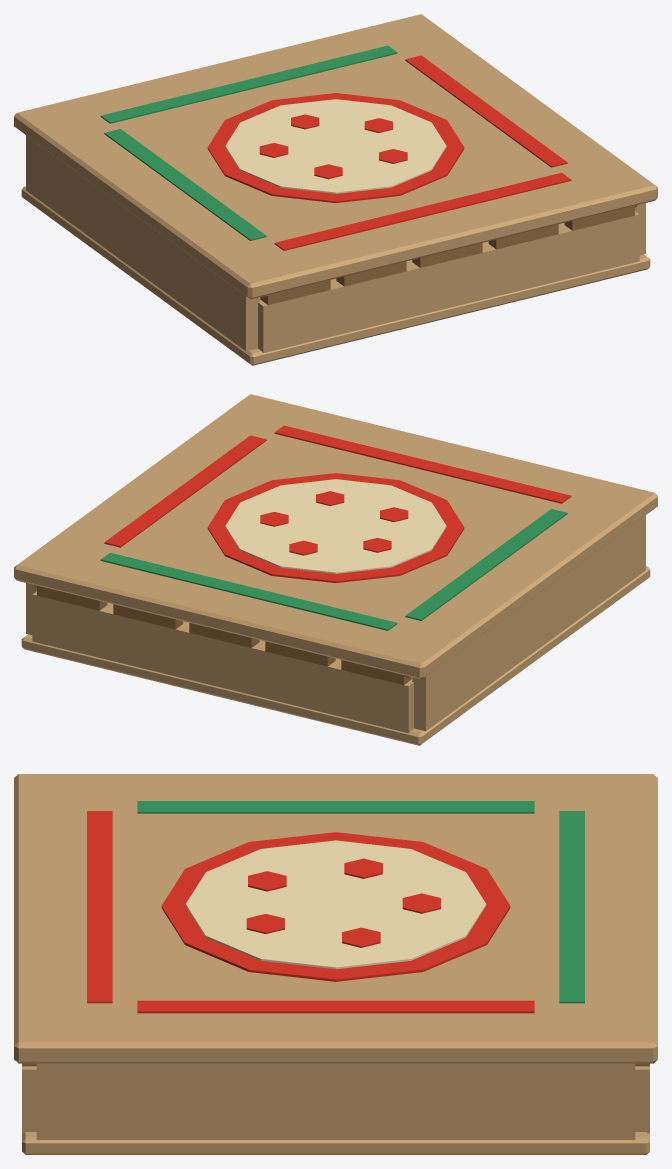
Rendered from classic_pizza_box.fbx.
3 views of the same model, one above another, from view 1: azimuth 30°, elevation 25°; view 2: azimuth 150°, elevation 25°; view 3: azimuth 270°, elevation 25° (orthographic). The views are drawn at different scales.
Parts seen in each view (by area): view 1: classic_pizza_box; view 2: classic_pizza_box; view 3: classic_pizza_box.
Part boxes in pixels (bbox=[...]): classic_pizza_box: bbox=[14, 14, 657, 365]; classic_pizza_box: bbox=[14, 394, 657, 745]; classic_pizza_box: bbox=[14, 774, 657, 1154].
Bounding box in the file's own units: 240 × 50 × 240.
